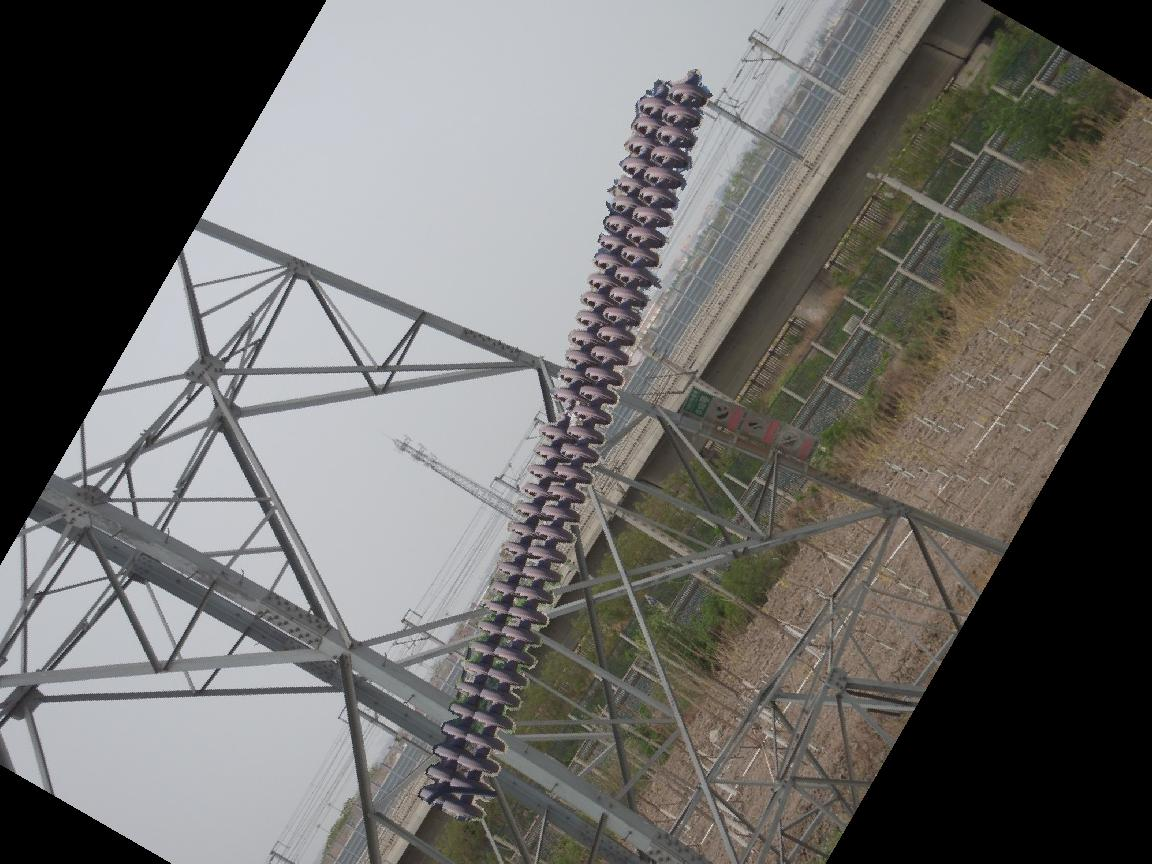insulator: (415, 72, 712, 824)
insulator_stringdrop: (533, 381, 588, 444)
